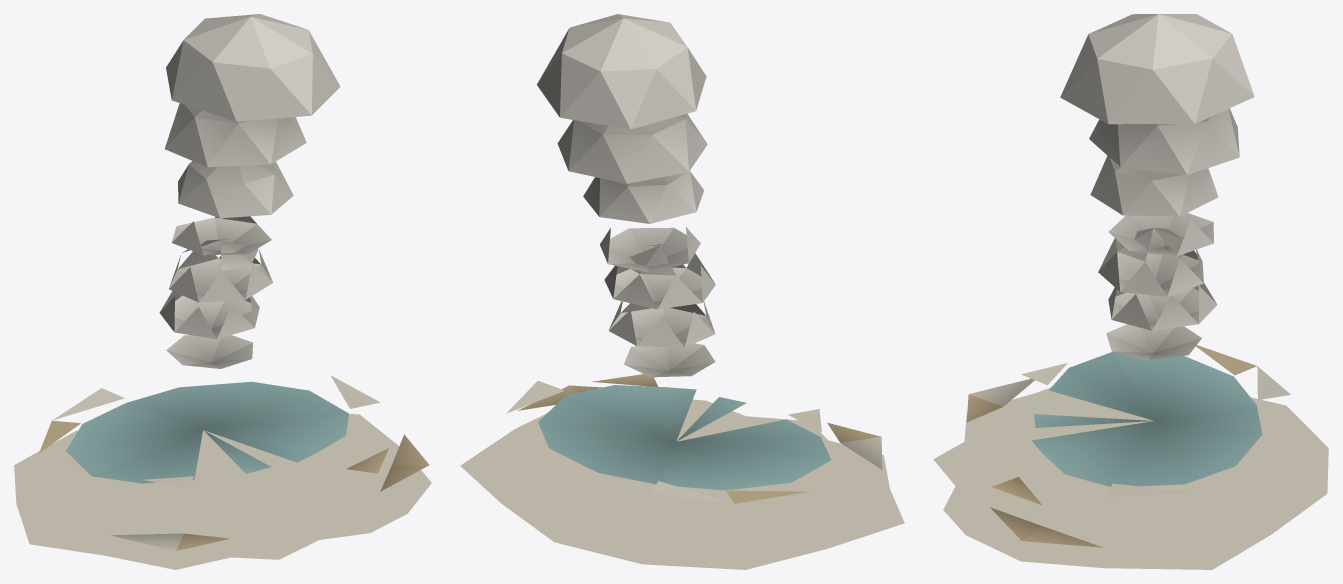
File: steamspring.lod.glb
3 views of the same model, side by side, from view 1: azimuth 30°, elevation 25°; view 2: azimuth 150°, elevation 25°; view 3: azimuth 270°, elevation 25° (orthographic). The views are drawn at different scales.
Parts seen in each view (by area): view 1: steamspring; view 2: steamspring; view 3: steamspring.
Part boxes in pixels (left/top/right/bottom): steamspring: left=14, top=14, right=431, bottom=569; steamspring: left=460, top=14, right=904, bottom=569; steamspring: left=933, top=14, right=1328, bottom=569.
Size of the model in its own units: 7.7 by 8.67 by 6.4.
